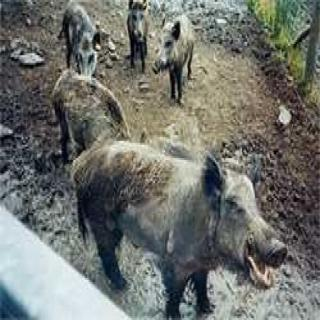Pig: (44, 132, 320, 306)
